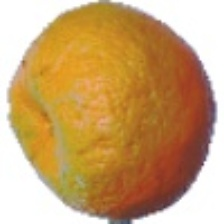tangerine: (24, 13, 184, 193)
